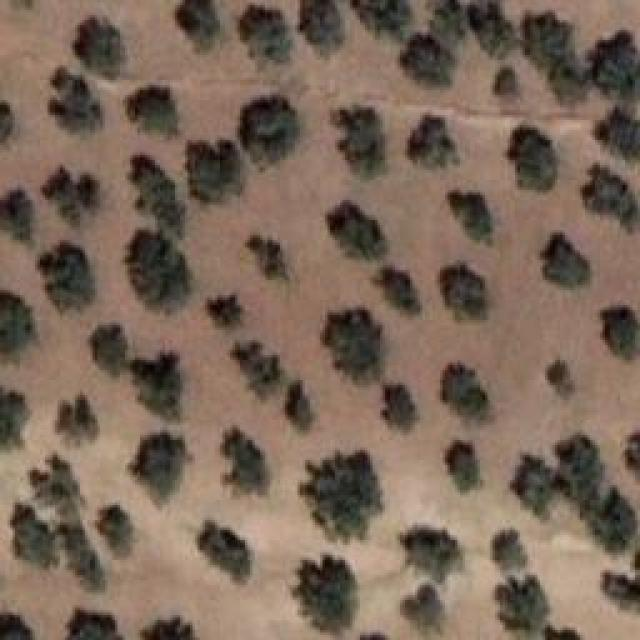Tree: (300, 450, 384, 542), (125, 230, 190, 312), (293, 555, 356, 633), (323, 308, 383, 381), (130, 433, 188, 506), (242, 95, 300, 168), (133, 155, 185, 235), (37, 242, 95, 312), (582, 165, 640, 233), (333, 105, 387, 176), (555, 435, 604, 510), (328, 200, 388, 260), (400, 525, 463, 582), (48, 67, 102, 132), (190, 140, 245, 203), (42, 168, 100, 226), (30, 455, 80, 522), (508, 127, 559, 192), (200, 520, 253, 582), (588, 487, 638, 552), (593, 30, 640, 99), (240, 5, 294, 65), (73, 18, 123, 80), (520, 13, 574, 70), (223, 428, 268, 494), (15, 502, 60, 567), (400, 33, 455, 86), (408, 115, 461, 170), (135, 355, 180, 419), (510, 455, 554, 520), (500, 575, 550, 631), (233, 343, 282, 400), (543, 58, 595, 111), (543, 232, 592, 287), (592, 105, 640, 161), (470, 0, 515, 58), (443, 365, 489, 420), (300, 0, 345, 56), (352, 0, 415, 39), (127, 85, 175, 135), (175, 0, 220, 52), (373, 268, 422, 315), (400, 585, 445, 636), (55, 395, 99, 447), (444, 263, 484, 319), (0, 293, 35, 356), (450, 193, 491, 245), (90, 325, 128, 378), (248, 235, 291, 280), (602, 310, 640, 360), (98, 505, 134, 556), (0, 388, 29, 451), (445, 440, 480, 492), (67, 610, 125, 640), (430, 0, 465, 49), (0, 187, 32, 240), (385, 385, 419, 432), (493, 530, 529, 573), (285, 380, 314, 433), (602, 573, 640, 611), (142, 617, 197, 640), (545, 360, 575, 397), (207, 295, 242, 325), (0, 615, 32, 640), (625, 430, 640, 475), (495, 67, 518, 96), (0, 103, 13, 144)
